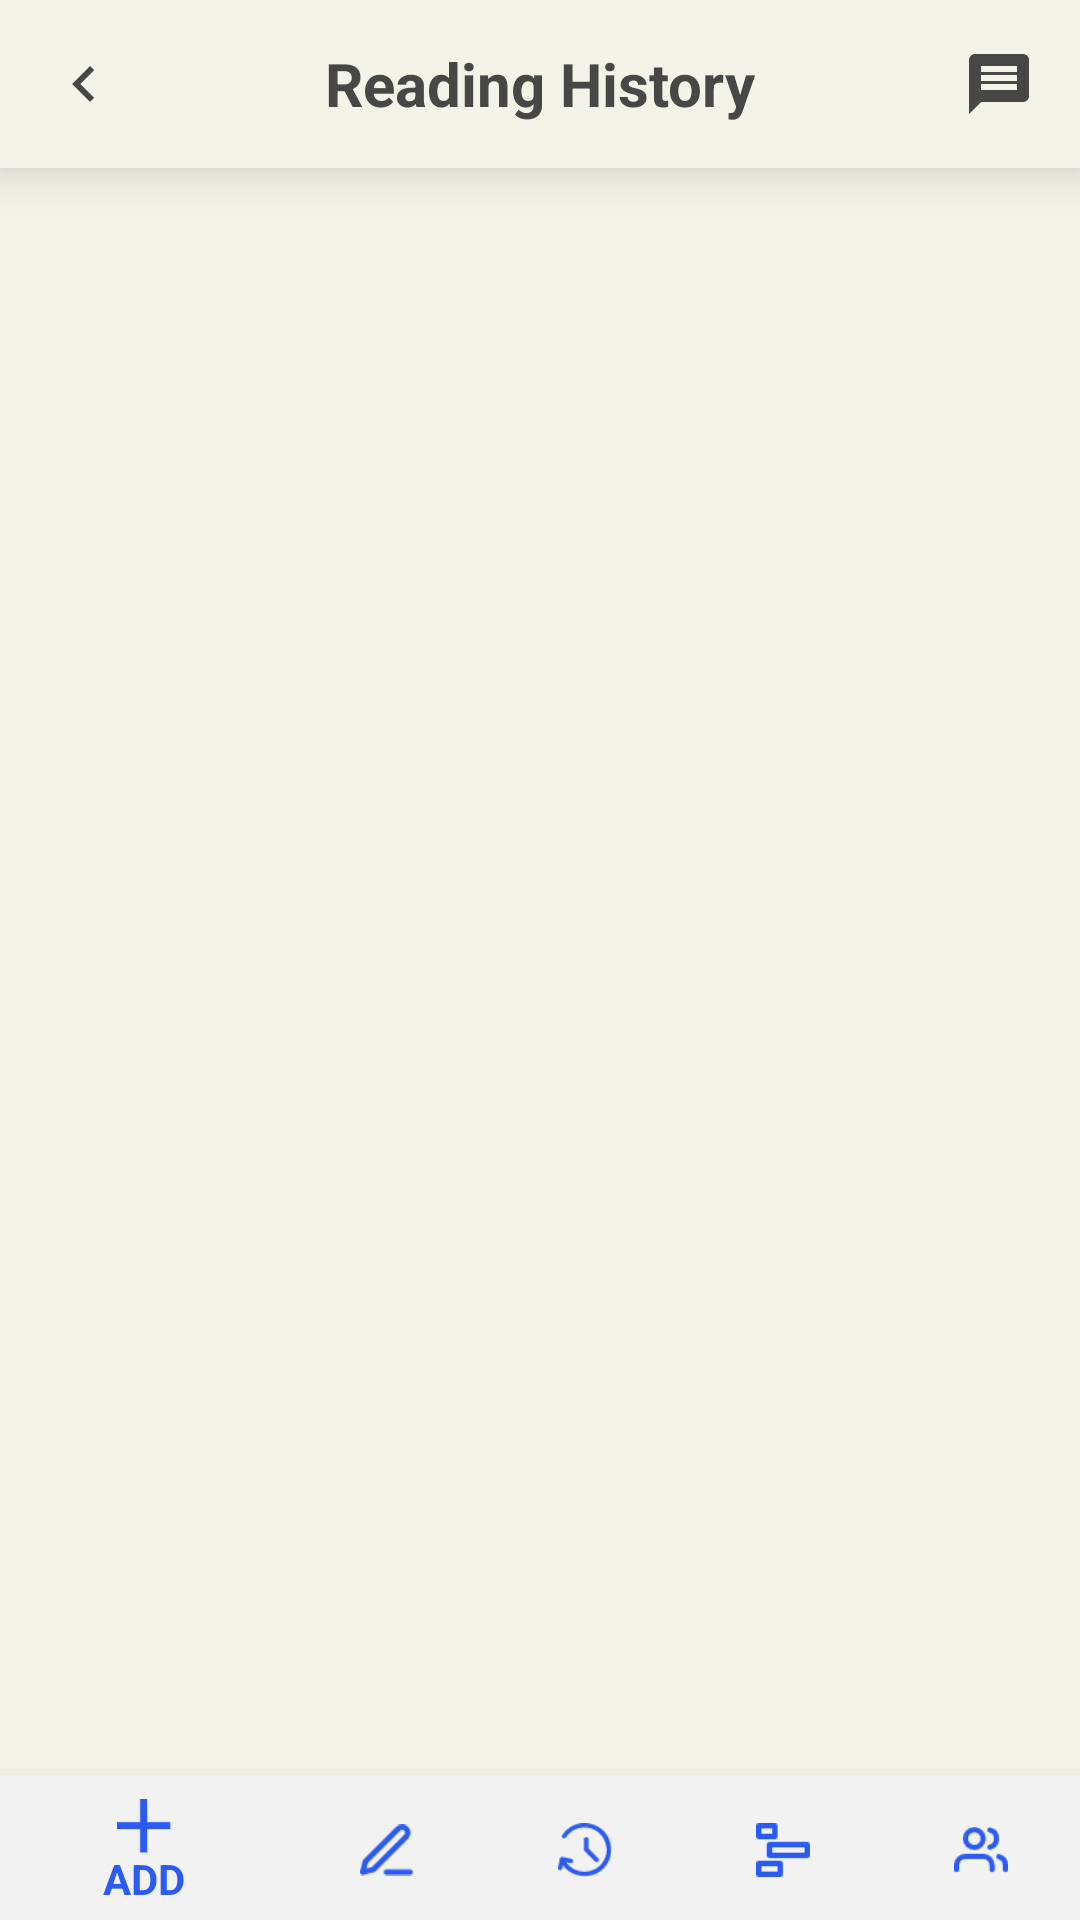

Icon bounding boxes for this 1080*1920 phone screenshot, format (x1, y1, x2, y2):
arrow left: (72, 66, 94, 102)
message: (969, 54, 1029, 114)
